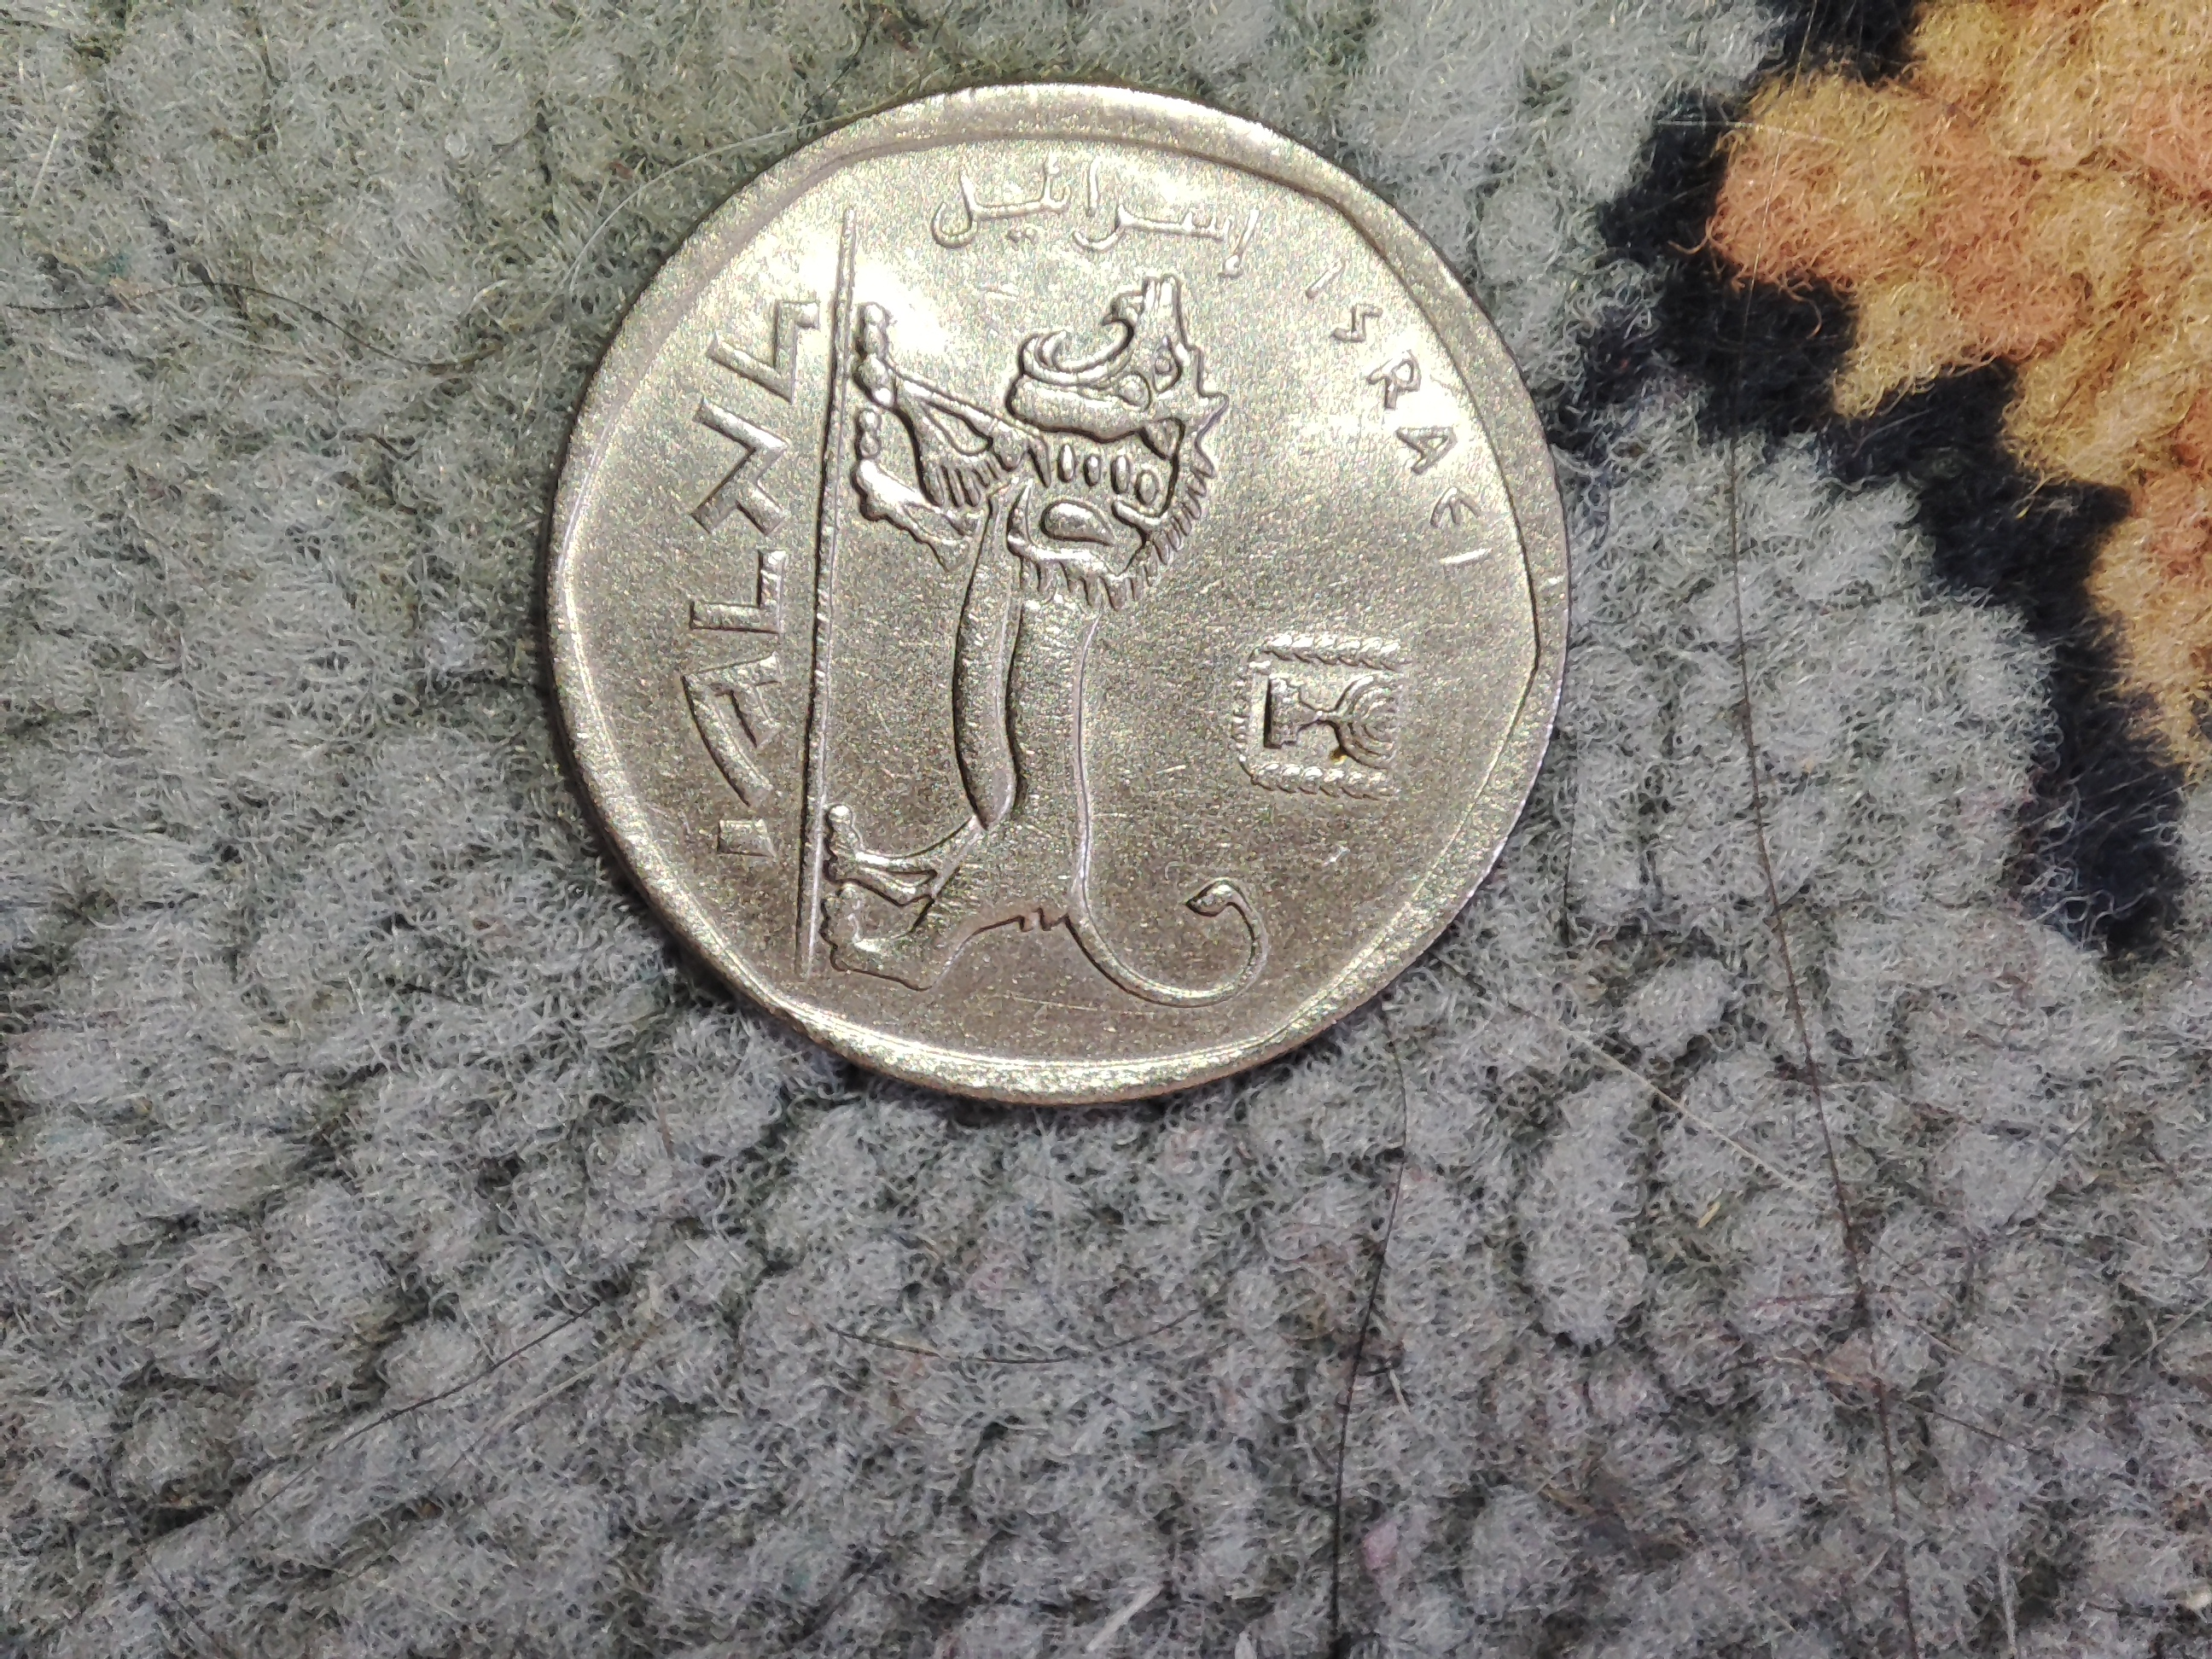1/2 old sheqel: (529, 77, 1581, 1115)
